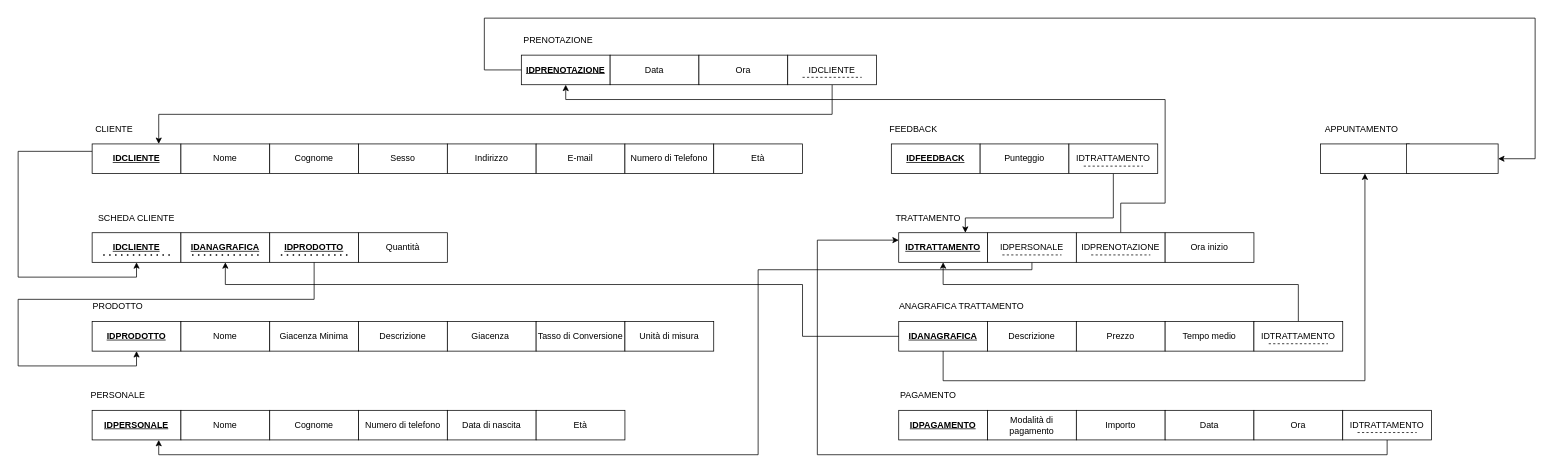
Some shapes in this 1554 by 474 pixel diagram are drawn without their labels. The centre of each missing label's shape, as x and y in pixels:
ID ANAGRAFICA: (x=1364, y=158)
ID PRENOTAZIONE: (x=1452, y=158)
